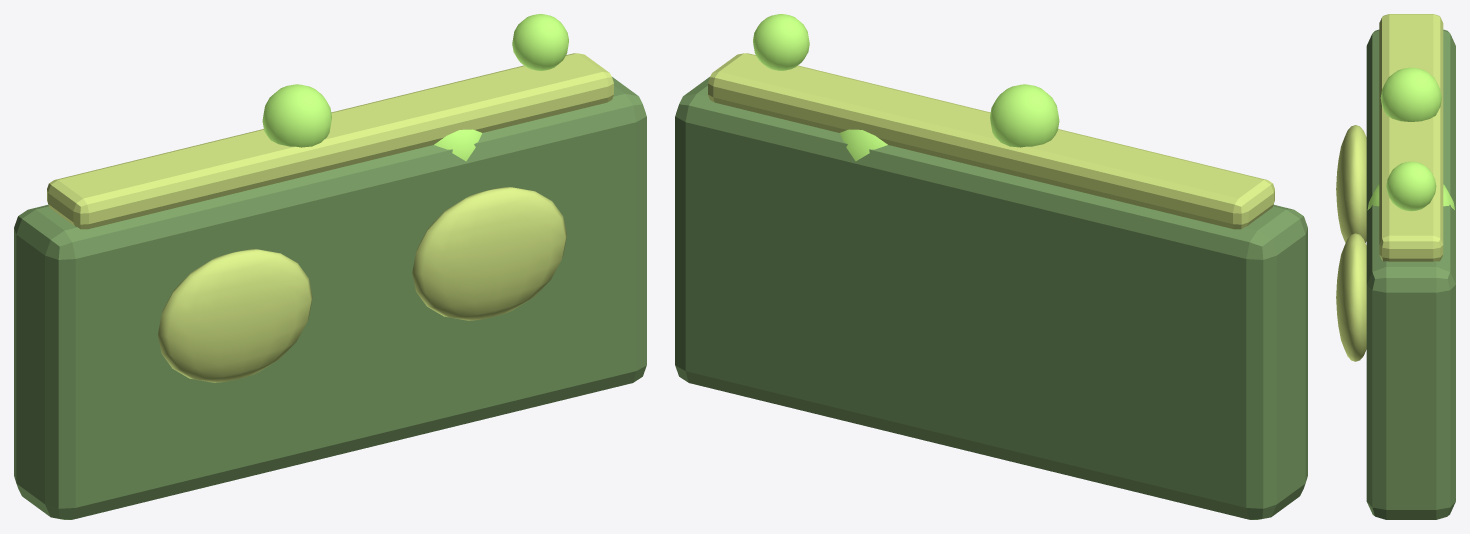
The model's file is wall-poison.glb.
3 views of the same model, side by side, from view 1: azimuth 30°, elevation 25°; view 2: azimuth 150°, elevation 25°; view 3: azimuth 270°, elevation 25° (orthographic). The views are drawn at different scales.
Parts seen in each view (by area): view 1: mesh_wall_poison_body, mesh_wall_poison_accent, mesh_wall_poison_bubble; view 2: mesh_wall_poison_body, mesh_wall_poison_accent, mesh_wall_poison_bubble; view 3: mesh_wall_poison_body, mesh_wall_poison_accent, mesh_wall_poison_bubble.
Boxes of the visible parts, x1,y1,x2,y2 form: mesh_wall_poison_body: [14, 77, 646, 519]; mesh_wall_poison_accent: [47, 53, 613, 382]; mesh_wall_poison_bubble: [262, 14, 568, 161]; mesh_wall_poison_body: [675, 77, 1307, 519]; mesh_wall_poison_accent: [708, 53, 1274, 229]; mesh_wall_poison_bubble: [753, 14, 1059, 161]; mesh_wall_poison_body: [1366, 29, 1455, 519]; mesh_wall_poison_accent: [1336, 14, 1443, 361]; mesh_wall_poison_bubble: [1367, 67, 1454, 211].
Size of the model in its own units: 1.08 by 0.645 by 0.215.
